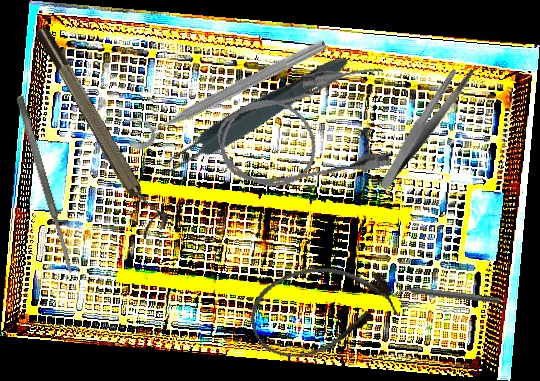Cannula: (208, 58, 403, 200), (241, 249, 402, 369)
Dressing Forceps: (353, 59, 497, 192)
Fixation Ring: (31, 18, 173, 240), (118, 22, 330, 155), (389, 279, 502, 310)
Spatula Surgical: (14, 94, 76, 276)
Tissue Forceps: (151, 46, 354, 185)
